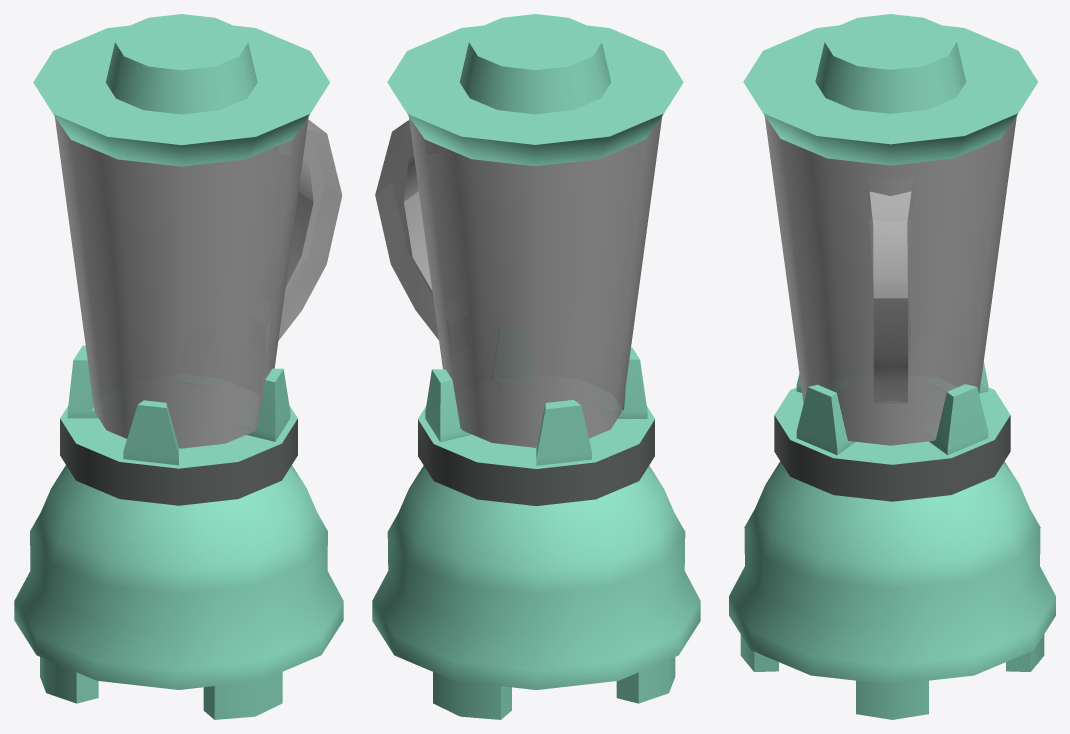
File: blender.fbx
3 renders of one model, left to right at view 1: azimuth 30°, elevation 25°; view 2: azimuth 150°, elevation 25°; view 3: azimuth 270°, elevation 25°, orthographic.
Parts seen in each view (by area): view 1: pCylinder1, pCylinder2, pCylinder3, pCube1; view 2: pCylinder1, pCylinder2, pCylinder3, pCube1; view 3: pCylinder1, pCylinder2, pCylinder3, pCube1.
Boxes of the visible parts, x1,y1,x2,y2 form: pCylinder1: (14,345,343,719); pCylinder2: (54,116,308,448); pCylinder3: (33,14,329,166); pCube1: (278,119,342,340); pCylinder1: (372,347,700,719); pCylinder2: (408,116,662,447); pCylinder3: (387,14,683,166); pCube1: (375,120,438,339); pCylinder1: (729,361,1055,719); pCylinder2: (764,116,1016,445); pCylinder3: (743,14,1037,165); pCube1: (869,191,911,402).
Bounding box in the file's own units: 0.7696 × 1.54 × 0.7402.
Materials: 2 (1 with a texture image).
